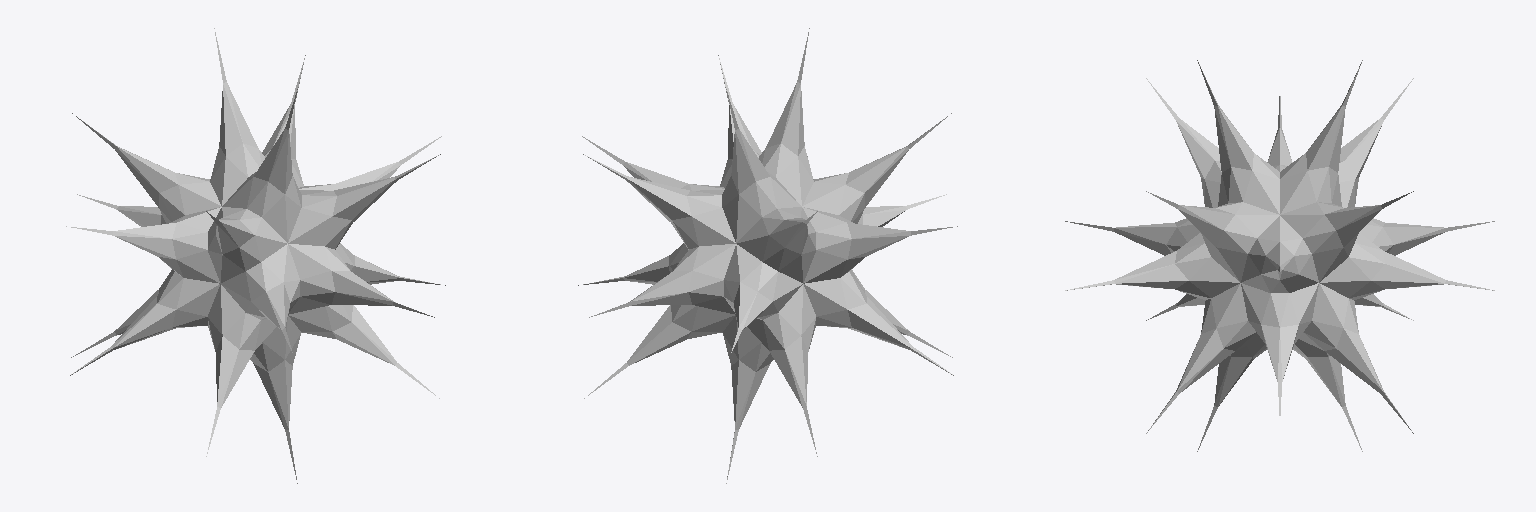
The model's file is external2.obj.
3 renders of one model, left to right at view 1: azimuth 30°, elevation 25°; view 2: azimuth 150°, elevation 25°; view 3: azimuth 270°, elevation 25°, orthographic.
Visible parts, largest first — view 1: pSolid1; view 2: pSolid1; view 3: pSolid1.
Boxes of the visible parts, box(x1,y1,x2,y2) form: pSolid1: box(66, 28, 445, 483); pSolid1: box(578, 28, 957, 483); pSolid1: box(1065, 60, 1494, 451).
Size of the model in its own units: 6.24 by 6.24 by 6.24.